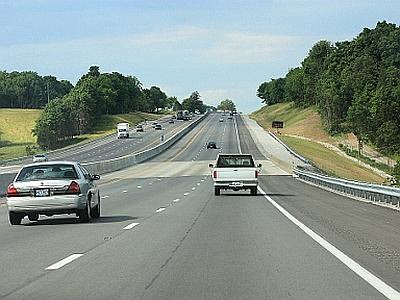car: (1, 164, 97, 221), (212, 152, 261, 203), (204, 141, 218, 151)
